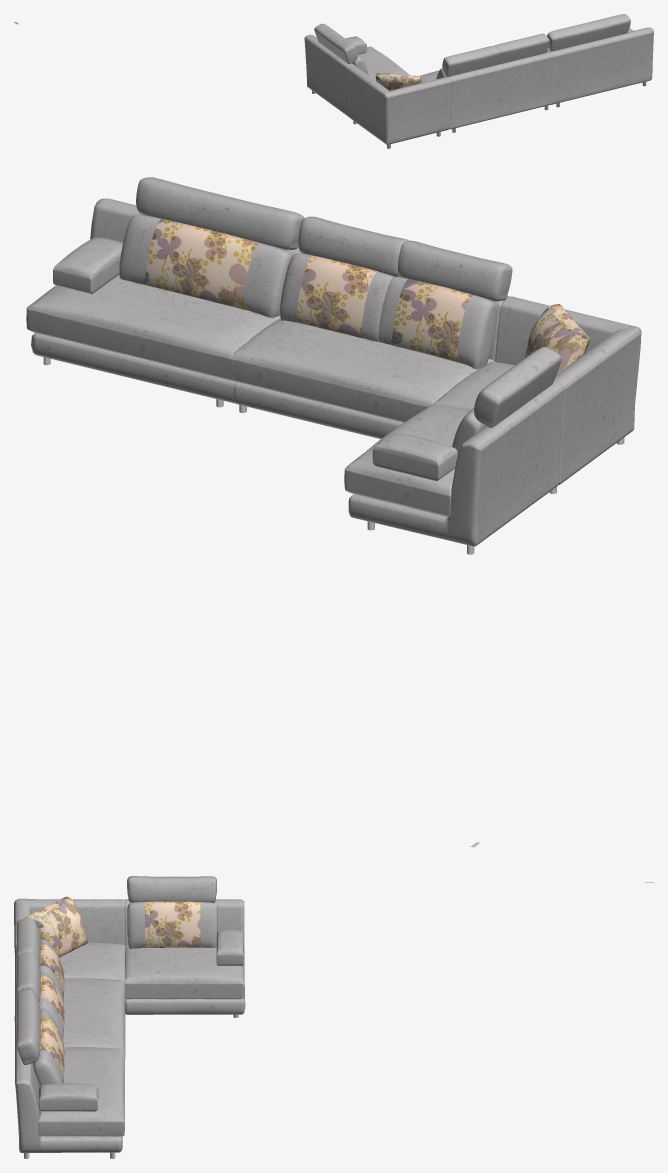
Rendered from sofa-livingroom.FBX.
3 views of the same model, one above another, from view 1: azimuth 30°, elevation 25°; view 2: azimuth 150°, elevation 25°; view 3: azimuth 270°, elevation 25° (orthographic). The views are drawn at different scales.
Parts seen in each view (by area): view 1: zhongdian005, zhongdian004; view 2: zhongdian005, zhongdian004; view 3: zhongdian005, zhongdian004.
Part boxes in pixels (x1,y1,x2,y2): zhongdian005: [304, 14, 653, 144]; zhongdian004: [375, 72, 421, 90]; zhongdian005: [26, 177, 641, 546]; zhongdian004: [143, 219, 590, 373]; zhongdian005: [14, 876, 245, 1152]; zhongdian004: [25, 896, 200, 1081].
Size of the model in its own units: 425 by 75.51 by 407.
